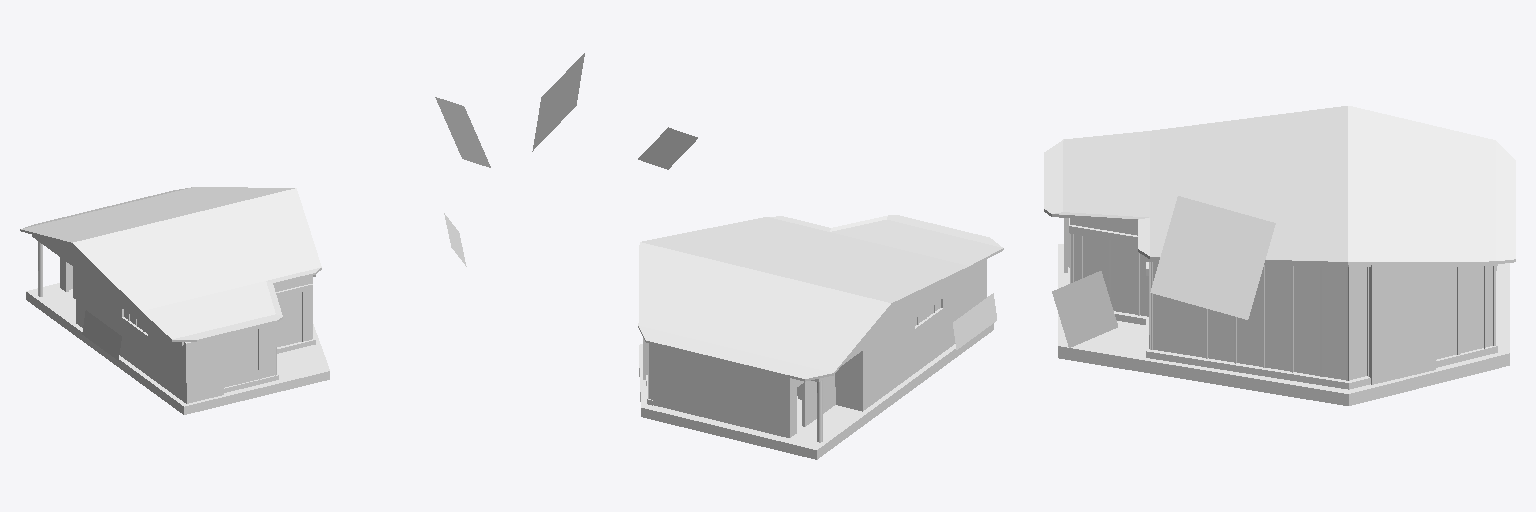
The robot description file, URDF, robot "house":
<?xml version="0.0" ?>
<robot name="house">
  <link name="houseLink">
  <contact>
      <lateral_friction value="1"/>
  </contact>
    <inertial>
      <origin rpy="0 0 0" xyz="0 0 0"/>
       <mass value=".0"/>
       <inertia ixx="0" ixy="0" ixz="0" iyy="0" iyz="0" izz="0"/>
    </inertial>
    <visual>
      <origin rpy="1.57 0 0" xyz="4 2 0"/>
      <geometry>
				<mesh filename="house.obj" scale="0.5 0.5 0.5"/>
      </geometry>
       <material name="white">
        <color rgba="1 1 1 1"/>
      </material>
    </visual>
  </link>
</robot>

--- Render facts (derived) ---
Views: 3 orthographic renders of the robot side by side, from view 1: azimuth 30°, elevation 25°; view 2: azimuth 150°, elevation 25°; view 3: azimuth 270°, elevation 25°.
Model house with 1 links and 0 joints (none), rooted at houseLink, posed every joint at zero.
Links seen in each view (by area): view 1: houseLink; view 2: houseLink; view 3: houseLink.
Link boxes in pixels (x1,y1,x2,y2): houseLink: [20, 97, 490, 414]; houseLink: [532, 53, 1003, 459]; houseLink: [1044, 106, 1515, 405].
Size in the robot's own frame: 43.5 by 32.78 by 21.93 metres.
Meshes: 1 distinct files referenced, 1 mesh visuals loaded (1 OBJ).